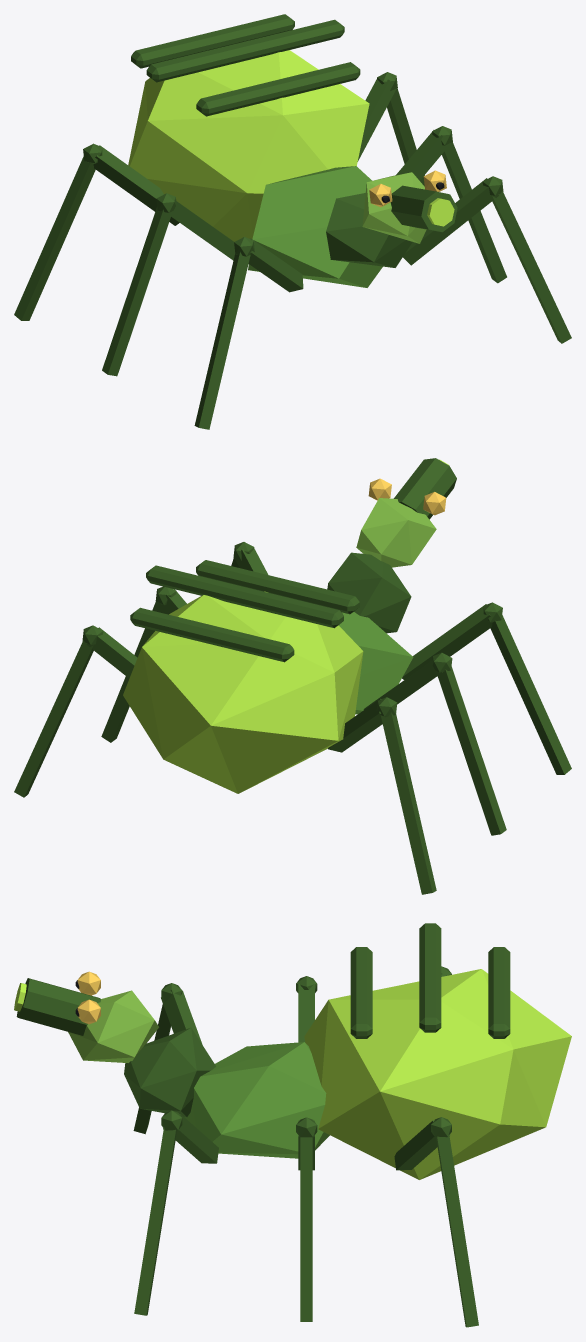
File: ennemi_cracheur.glb
3 renders of one model, top to bottom at view 1: azimuth 30°, elevation 25°; view 2: azimuth 150°, elevation 25°; view 3: azimuth 270°, elevation 25°, orthographic. The views are drawn at different scales.
Visible parts, largest first — view 1: corps_acide.002, corps_cracheur_sombre.002, pattes_a_cracheur_sombre.002, pattes_b_cracheur_sombre.002, corps_cracheur.002, corps_cracheur_clair.002, corps_oeil.006; view 2: corps_acide.002, corps_cracheur_sombre.002, pattes_a_cracheur_sombre.002, pattes_b_cracheur_sombre.002, corps_cracheur_clair.002, corps_cracheur.002, corps_oeil.006; view 3: corps_acide.002, corps_cracheur_sombre.002, corps_cracheur.002, pattes_b_cracheur_sombre.002, pattes_a_cracheur_sombre.002, corps_cracheur_clair.002, corps_oeil.006.
Boxes of the visible parts, x1,y1,x2,y2 form: corps_acide.002: (128,50,454,241); corps_cracheur_sombre.002: (131,14,457,267); pattes_a_cracheur_sombre.002: (14,126,506,429); pattes_b_cracheur_sombre.002: (102,72,571,376); corps_cracheur.002: (248,166,382,287); corps_cracheur_clair.002: (362,172,426,243); corps_oeil.006: (369,170,446,207); corps_acide.002: (123,459,449,793); corps_cracheur_sombre.002: (130,458,456,662); pattes_a_cracheur_sombre.002: (101,586,571,894); pattes_b_cracheur_sombre.002: (14,542,506,835); corps_cracheur_clair.002: (356,498,436,567); corps_cracheur.002: (338,612,413,714); corps_oeil.006: (368,478,446,515); corps_acide.002: (14,969,571,1179); corps_cracheur_sombre.002: (16,923,510,1117); corps_cracheur.002: (184,1042,329,1158); pattes_b_cracheur_sombre.002: (134,976,478,1327); pattes_a_cracheur_sombre.002: (133,966,451,1321); corps_cracheur_clair.002: (68,990,158,1062); corps_oeil.006: (77,971,100,1024).
Size of the model in its own units: 0.9243 by 0.5091 by 1.01.
